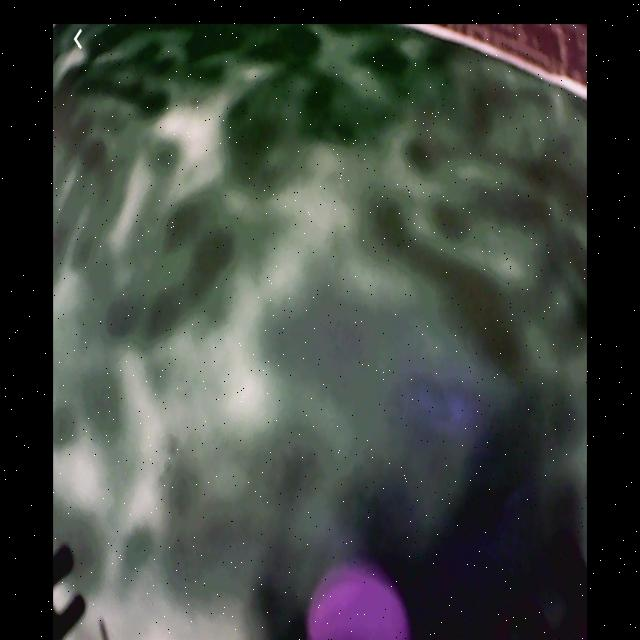ball: (305, 568, 412, 640)
